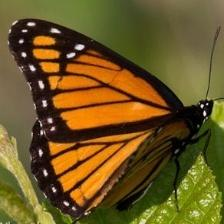butterfly: (9, 19, 214, 218)
